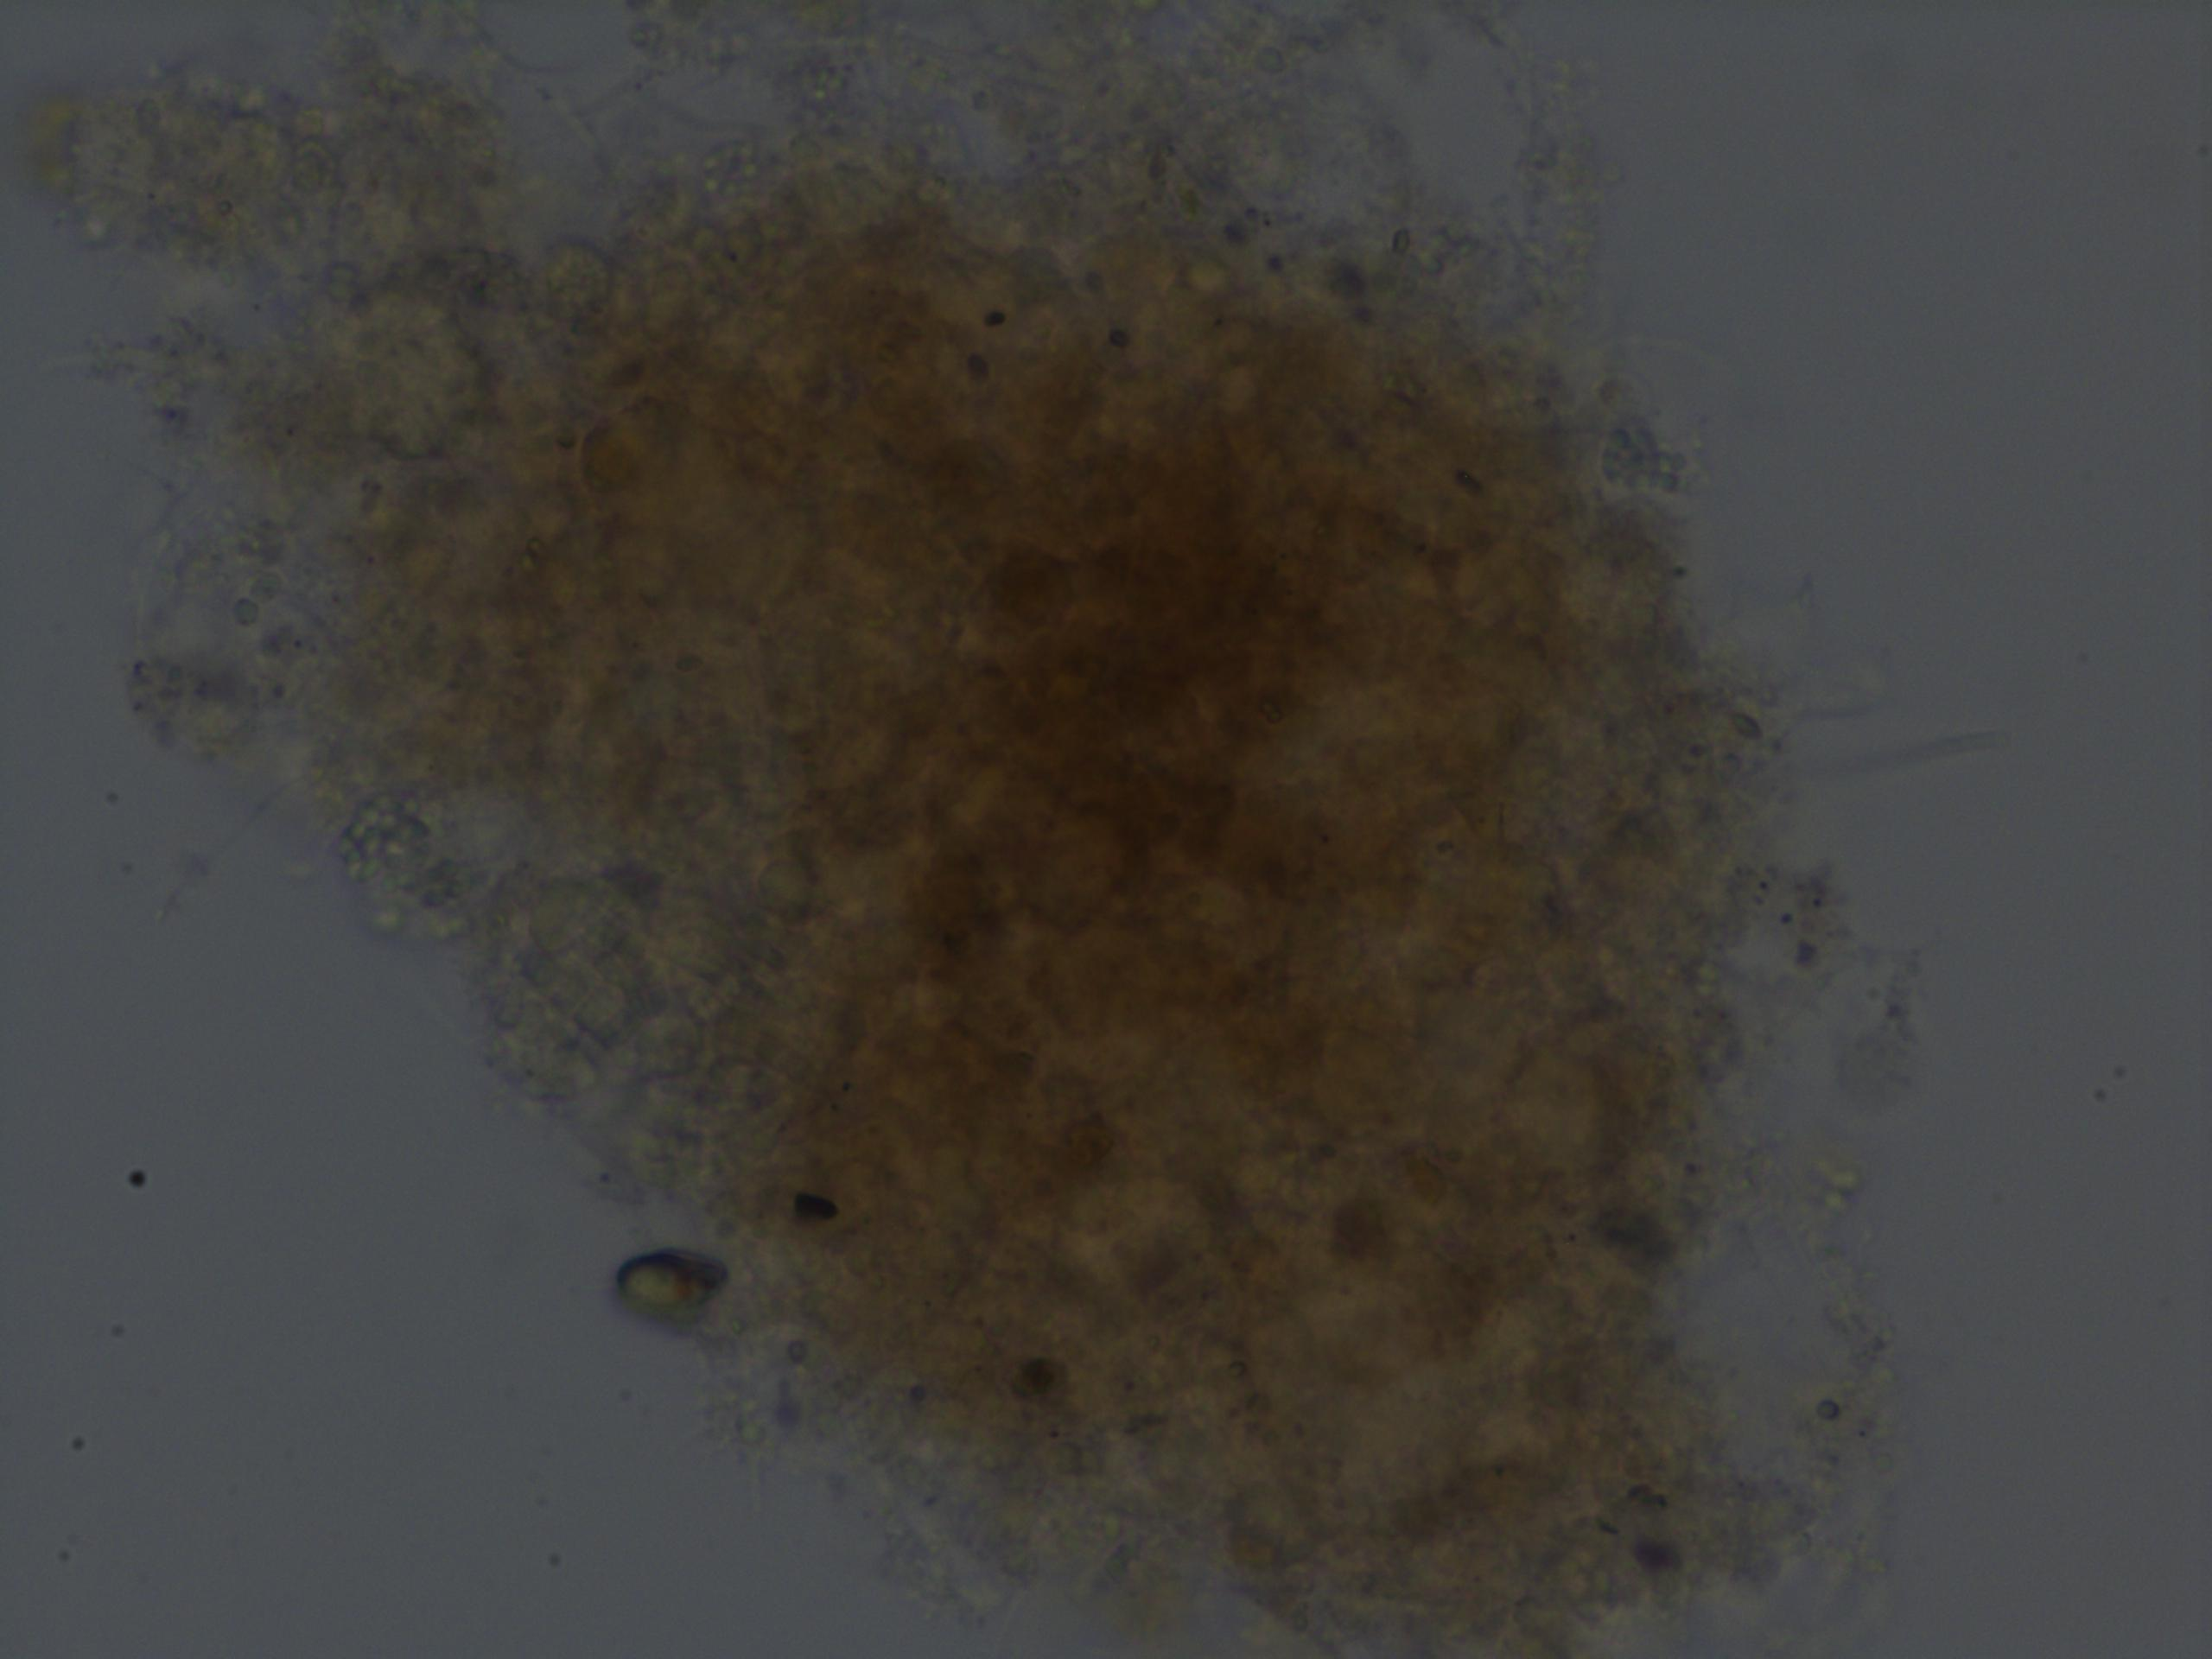spherical_floc: (235, 131, 1850, 1654)
